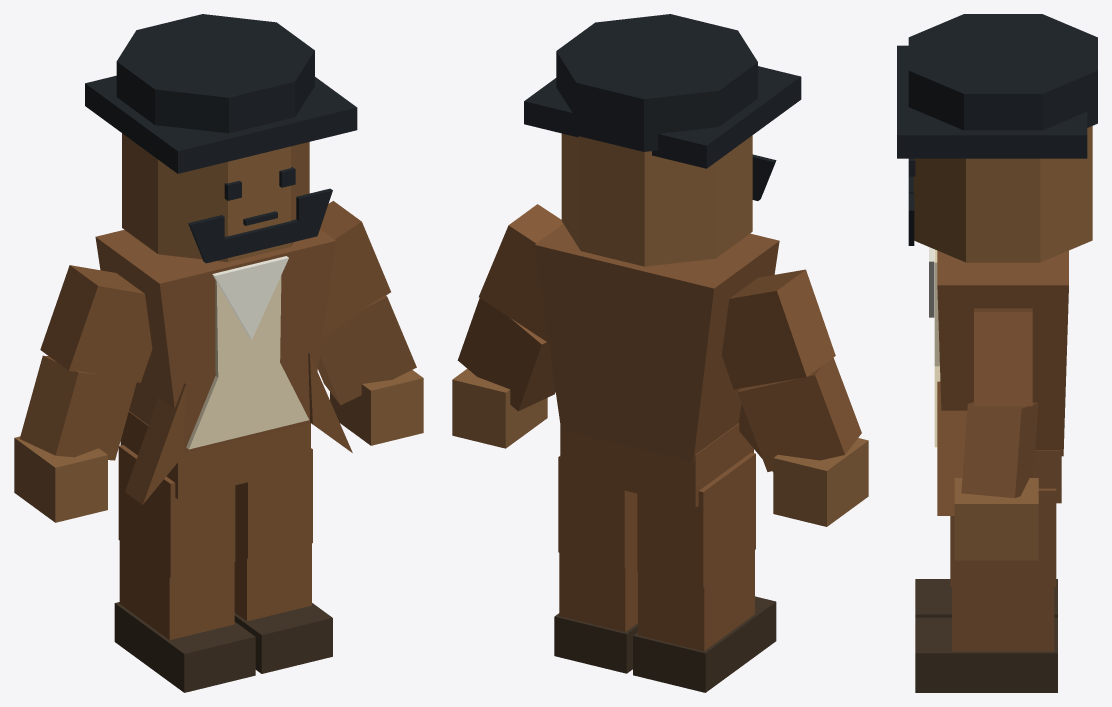
Rendered from Mulligan.glb.
3 views of the same model, side by side, from view 1: azimuth 30°, elevation 25°; view 2: azimuth 150°, elevation 25°; view 3: azimuth 270°, elevation 25° (orthographic). The views are drawn at different scales.
Visible parts, largest first — view 1: Body, Body_M_CastV02_black_1d2228, Body_M_CastV02_darkSkin_90653c, Body_M_CastV02_cream_f1e3bf, Body_M_CastV02_white_f9f7ea; view 2: Body, Body_M_CastV02_darkSkin_90653c, Body_M_CastV02_black_1d2228; view 3: Body, Body_M_CastV02_black_1d2228, Body_M_CastV02_darkSkin_90653c, Body_M_CastV02_cream_f1e3bf, Body_M_CastV02_white_f9f7ea.
Part boxes in pixels (x1,y1,x2,y2): Body: (19, 201, 416, 692); Body_M_CastV02_black_1d2228: (85, 14, 357, 263); Body_M_CastV02_darkSkin_90653c: (14, 133, 423, 522); Body_M_CastV02_cream_f1e3bf: (186, 276, 309, 449); Body_M_CastV02_white_f9f7ea: (212, 256, 288, 339); Body: (457, 204, 861, 692); Body_M_CastV02_darkSkin_90653c: (452, 133, 868, 526); Body_M_CastV02_black_1d2228: (524, 14, 801, 200); Body: (915, 250, 1068, 692); Body_M_CastV02_black_1d2228: (897, 14, 1097, 245); Body_M_CastV02_darkSkin_90653c: (913, 126, 1092, 560); Body_M_CastV02_cream_f1e3bf: (934, 249, 940, 447); Body_M_CastV02_white_f9f7ea: (929, 247, 934, 317).
Bounding box in the file's own units: 1.23 × 1.82 × 0.5487.
